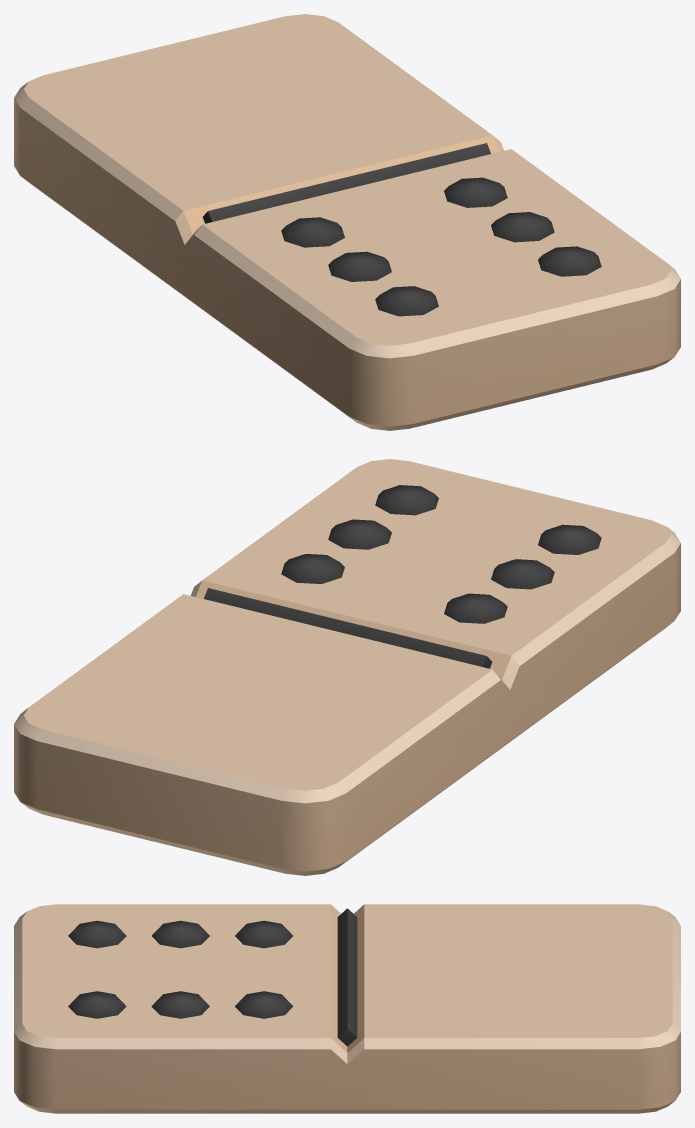
The model's file is domino_tile_0-6.obj.
3 views of the same model, one above another, from view 1: azimuth 30°, elevation 25°; view 2: azimuth 150°, elevation 25°; view 3: azimuth 270°, elevation 25° (orthographic). The views are drawn at different scales.
Visible parts, largest first — view 1: domino_tile_0-6; view 2: domino_tile_0-6; view 3: domino_tile_0-6.
Part boxes in pixels (bbox=[...]): domino_tile_0-6: bbox=[14, 14, 680, 430]; domino_tile_0-6: bbox=[14, 459, 680, 875]; domino_tile_0-6: bbox=[14, 904, 680, 1113].
Bounding box in the file's own units: 1 × 0.2767 × 2.
1 material, 1 textured.
